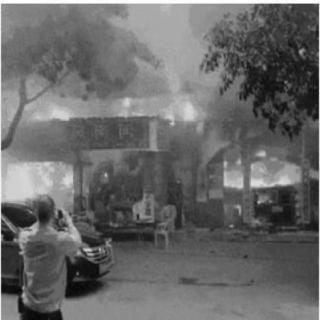Fire: (3, 70, 205, 138), (6, 145, 133, 218), (211, 134, 315, 223)
